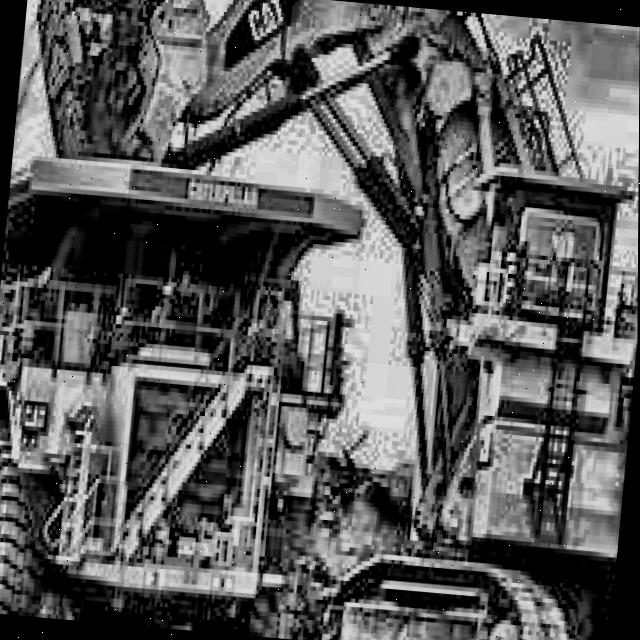dump_truck: (0, 140, 360, 640)
excavator: (0, 0, 640, 640)
